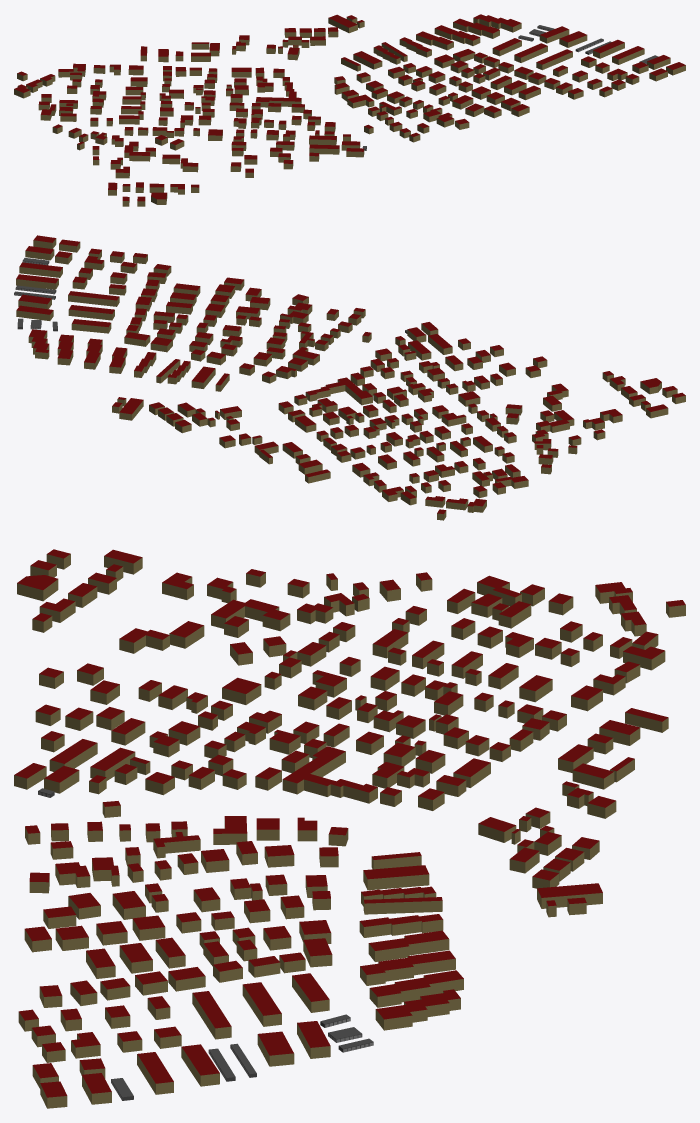
The model's file is Ingolstadt_Tile_8_6.obj.
3 views of the same model, one above another, from view 1: azimuth 30°, elevation 25°; view 2: azimuth 150°, elevation 25°; view 3: azimuth 270°, elevation 25° (orthographic). The views are drawn at different scales.
Visible parts, largest first — view 1: Building157, Building192, Building190, Building196, Building193, Building114, Building232, Building226, Building227, Building241, Building262, Building187 (+4 smaller); view 2: Building157, Building232, Building226, Building114, Building192, Building227, Building241, Building190, Building255, Building196, Building225; view 3: Building157, Building196, Building190, Building192, Building193, Building114, Building187, Building195, Building189, Building262, Building232, Building226 (+10 smaller).
Part boxes in pixels (<box>): Building157: <box>255,82,301,107</box>; Building192: <box>473,14,521,32</box>; Building190: <box>453,18,499,38</box>; Building196: <box>434,25,480,45</box>; Building193: <box>416,31,453,50</box>; Building114: <box>124,141,150,161</box>; Building232: <box>536,49,572,70</box>; Building226: <box>514,43,547,62</box>; Building227: <box>612,46,644,64</box>; Building241: <box>593,39,624,58</box>; Building262: <box>328,14,357,33</box>; Building187: <box>399,37,431,57</box>; Building157: <box>305,377,372,405</box>; Building232: <box>68,291,119,306</box>; Building226: <box>68,305,114,320</box>; Building114: <box>536,410,574,432</box>; Building192: <box>28,329,49,359</box>; Building227: <box>19,262,62,277</box>; Building241: <box>16,274,58,289</box>; Building190: <box>57,334,73,365</box>; Building255: <box>71,319,111,333</box>; Building196: <box>84,338,102,369</box>; Building225: <box>16,305,53,320</box>; Building157: <box>282,746,377,803</box>; Building196: <box>360,950,455,985</box>; Building190: <box>369,970,463,1007</box>; Building192: <box>375,989,460,1030</box>; Building193: <box>368,930,449,961</box>; Building114: <box>211,599,290,631</box>; Building187: <box>359,914,443,937</box>; Building195: <box>363,865,429,890</box>; Building189: <box>363,897,442,914</box>; Building262: <box>537,883,602,908</box>; Building232: <box>192,991,231,1039</box>; Building226: <box>242,982,281,1026</box>.
Bounding box in the file's own units: 798 × 7.5 × 413.
